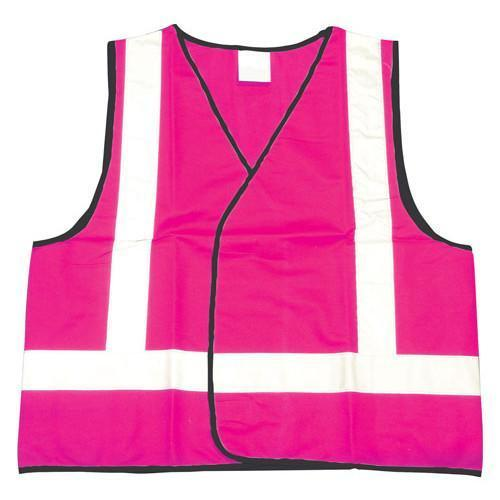vest: (14, 21, 484, 476)
